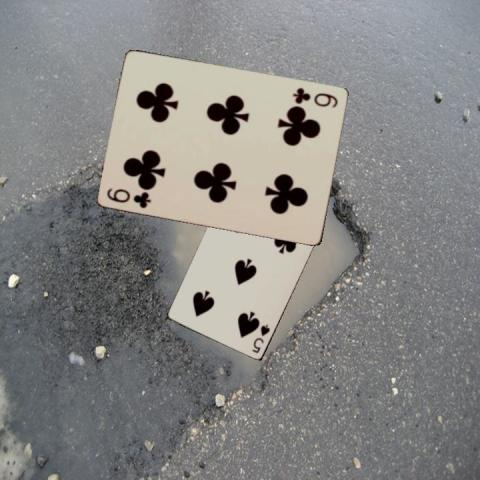5s: (249, 321, 271, 354)
6c: (290, 84, 339, 109), (104, 184, 153, 209)
